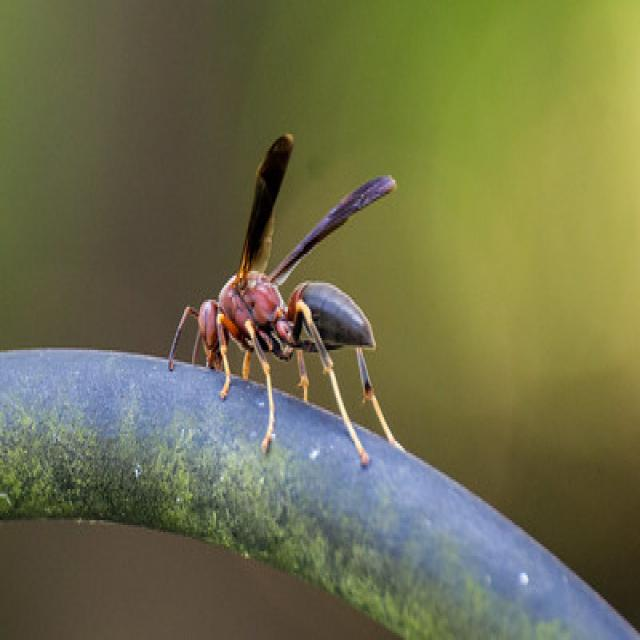Guepe: (152, 112, 421, 487)
